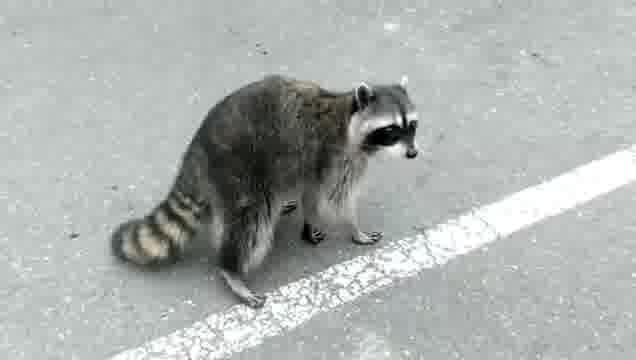raccoon: (111, 70, 419, 307)
